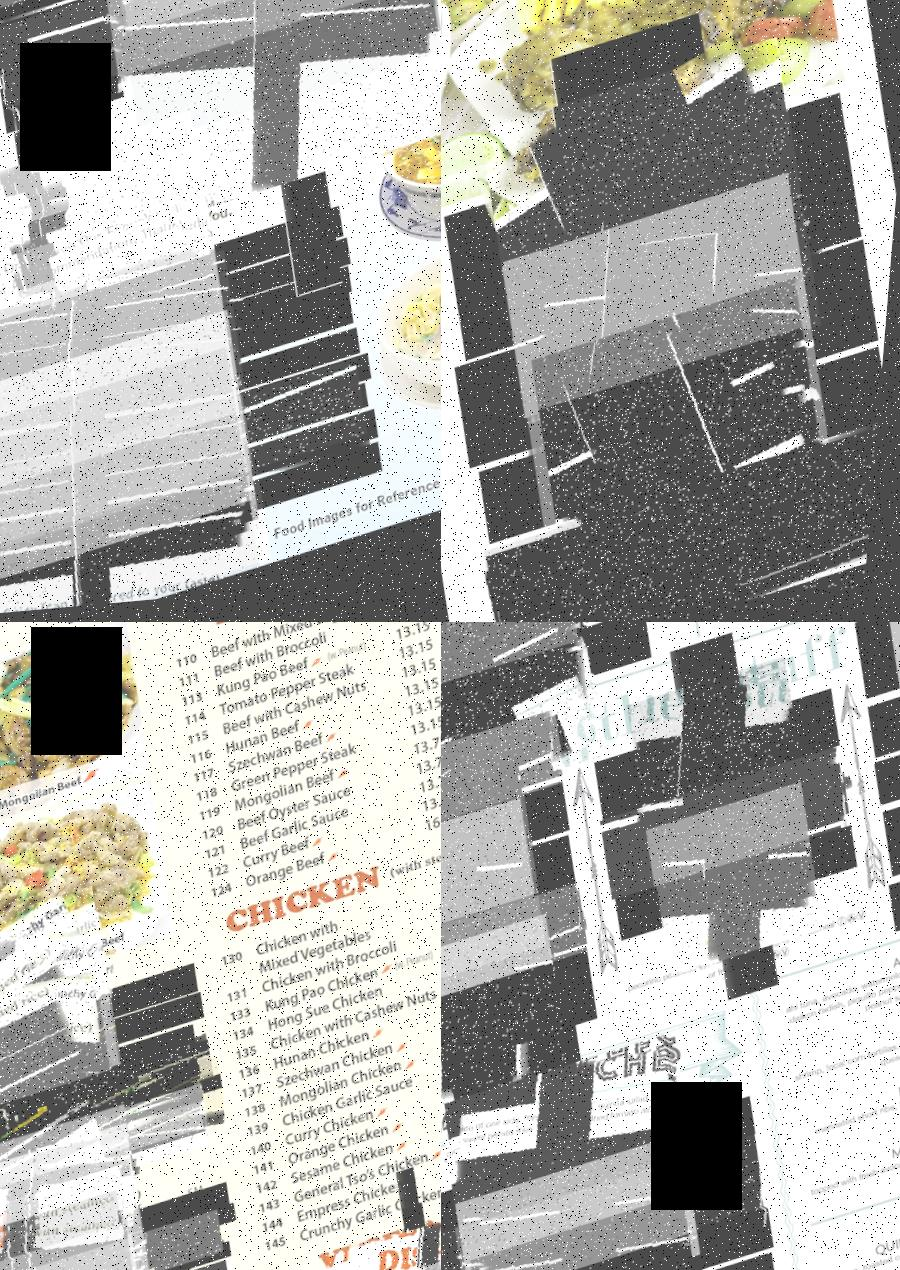Menu-Items: (467, 38, 853, 425), (493, 175, 858, 542), (0, 199, 291, 609), (524, 280, 865, 622), (0, 255, 310, 622), (0, 174, 283, 573), (0, 116, 276, 520), (0, 239, 289, 622), (0, 151, 276, 542), (0, 369, 393, 611), (0, 316, 301, 622), (86, 0, 441, 242), (0, 353, 294, 622), (488, 433, 887, 622), (441, 1035, 732, 1270), (84, 0, 441, 159), (0, 0, 441, 119), (0, 915, 162, 1238), (75, 0, 441, 135), (0, 889, 155, 1206), (0, 949, 158, 1259), (441, 1139, 792, 1270), (0, 1064, 239, 1242), (624, 660, 827, 865), (604, 751, 871, 905), (647, 787, 844, 985), (458, 1137, 747, 1270), (0, 1048, 227, 1213), (441, 622, 624, 825), (0, 1109, 229, 1270), (0, 1092, 222, 1254), (441, 914, 593, 1127), (0, 1107, 191, 1270), (183, 649, 441, 760), (218, 875, 441, 1001), (196, 746, 441, 860), (181, 633, 441, 738), (0, 1129, 193, 1270), (187, 670, 441, 777), (193, 706, 441, 815), (193, 726, 441, 834), (191, 689, 441, 796), (441, 622, 620, 770), (178, 622, 441, 722), (526, 548, 880, 622), (202, 765, 441, 873), (213, 801, 441, 913), (441, 797, 566, 997), (211, 785, 441, 889), (229, 948, 441, 1060), (441, 742, 558, 944), (225, 910, 441, 1019), (441, 885, 604, 1024), (238, 971, 441, 1078), (247, 1022, 441, 1133), (170, 622, 441, 701), (242, 988, 441, 1095), (246, 1005, 441, 1114), (773, 897, 900, 1063), (249, 1045, 441, 1153), (236, 935, 441, 1036), (473, 1196, 746, 1270), (259, 1085, 441, 1193), (441, 709, 578, 852), (263, 1122, 441, 1232), (255, 1066, 441, 1170), (0, 1171, 189, 1270), (273, 1164, 441, 1270), (266, 1106, 441, 1207), (787, 967, 900, 1121), (271, 1144, 441, 1246), (167, 622, 441, 683), (796, 1026, 900, 1175), (805, 1081, 900, 1228), (441, 622, 597, 705)
